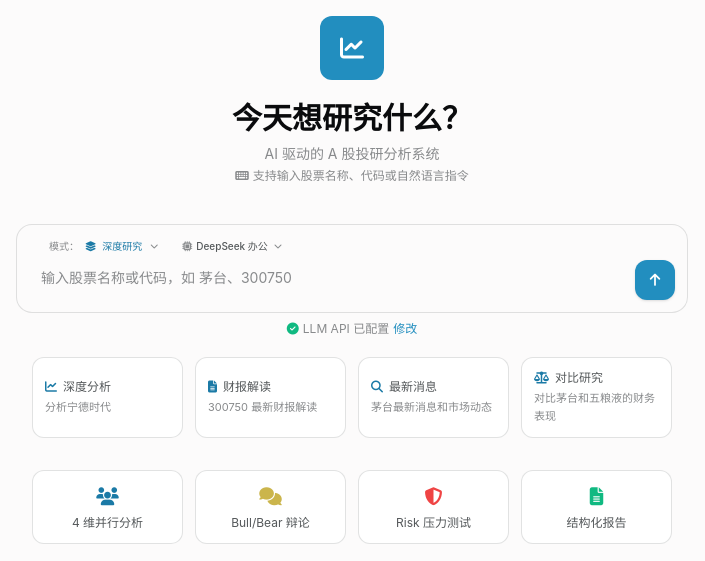
Test case: EmptyState 下拉框 dismiss（delta fix-dropdown-outside-close） › 同一输入栏两个下拉框互斥展开（正反向）
模式展开时点 LLM 触发 → 模式关、LLM 开
Click the button "模式： 深度研究": (104, 246) [41,237,166,256]
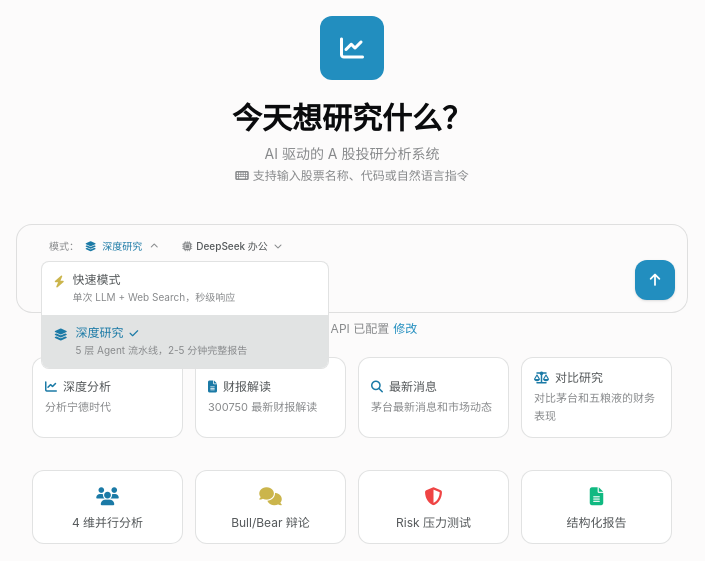
Result: the button "快速模式 单次 LLM + Web Search，秒级响应" is shown at [42,262,328,315]
Click the button "DeepSeek 办公": (232, 246) [174,237,290,256]
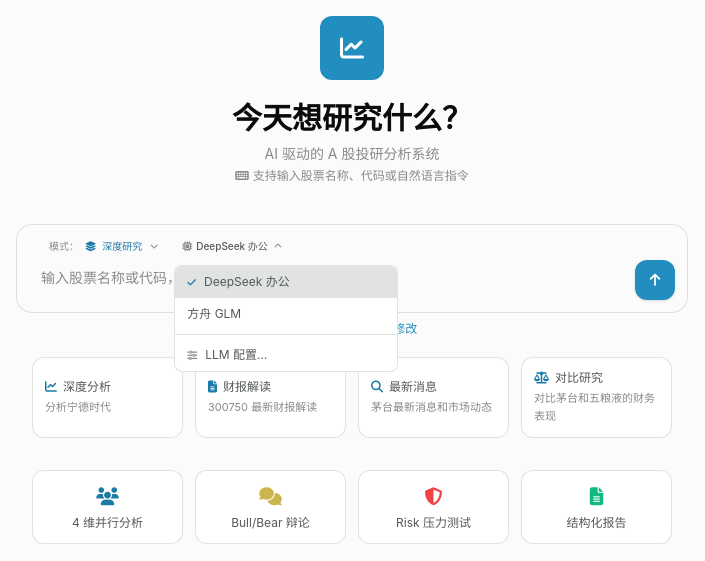
Result: the button "快速模式" is gone
Result: the button "方舟 GLM" is shown at [175,298,397,330]
LLM 展开时点模式触发 → LLM 关、模式开（此时 LLM 触发按钮与菜单项同名，取第一个为触发按钮）
Click the button "模式： 深度研究": (104, 246) [41,237,166,256]
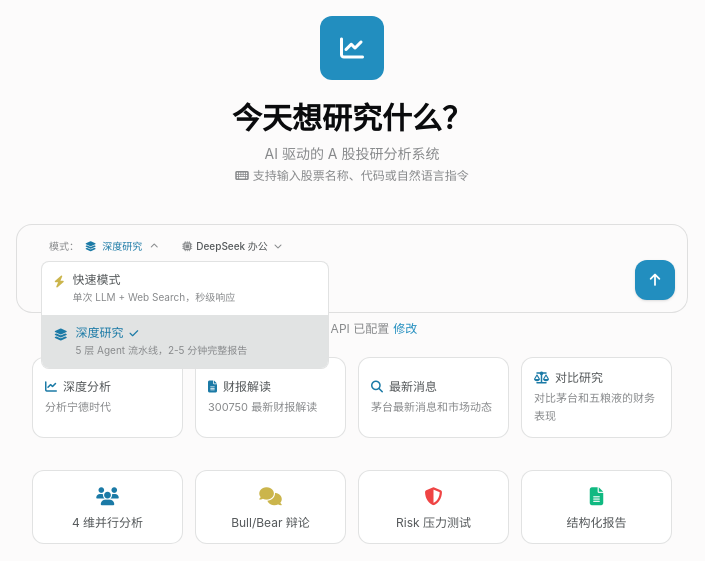
Result: the button "方舟 GLM" is gone
Result: the button "快速模式 单次 LLM + Web Search，秒级响应" is shown at [42,262,328,315]
